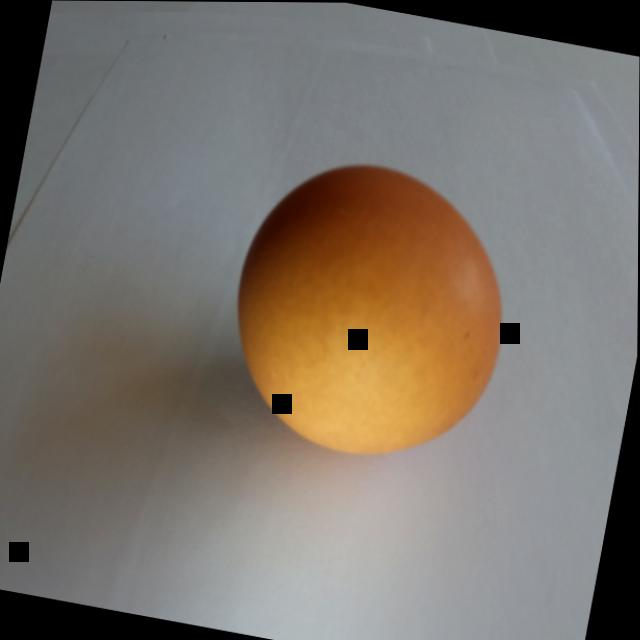Egg: (195, 112, 548, 502)
